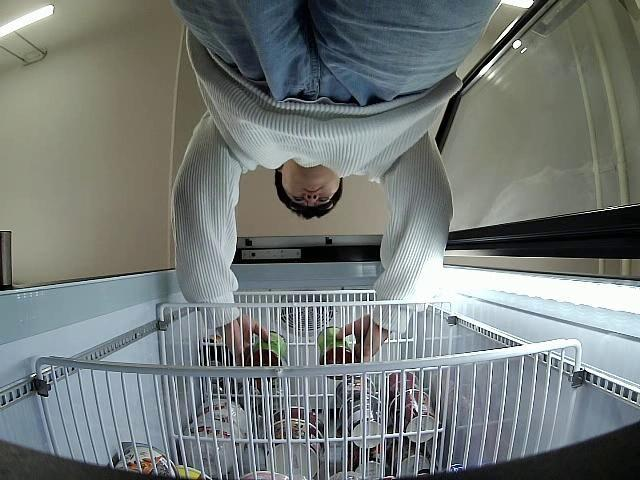19_17cha: (317, 325, 353, 382), (244, 331, 288, 368)
